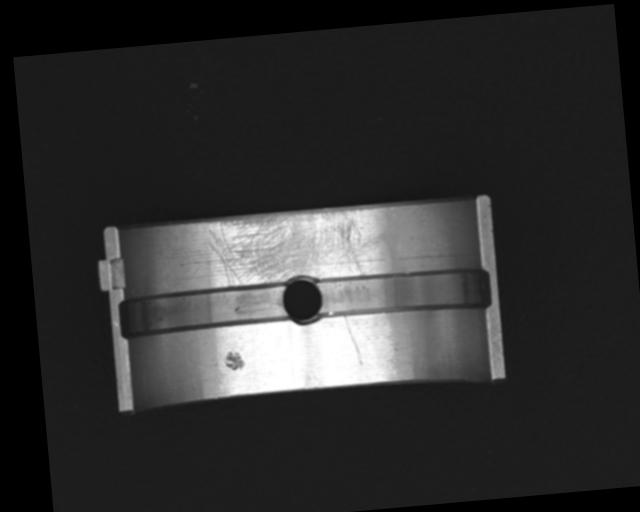bruise: (222, 349, 245, 372)
gap: (315, 264, 491, 321), (117, 282, 290, 337)
hole: (279, 275, 325, 325)
nick: (342, 314, 362, 367)
scratch: (206, 205, 383, 289)
